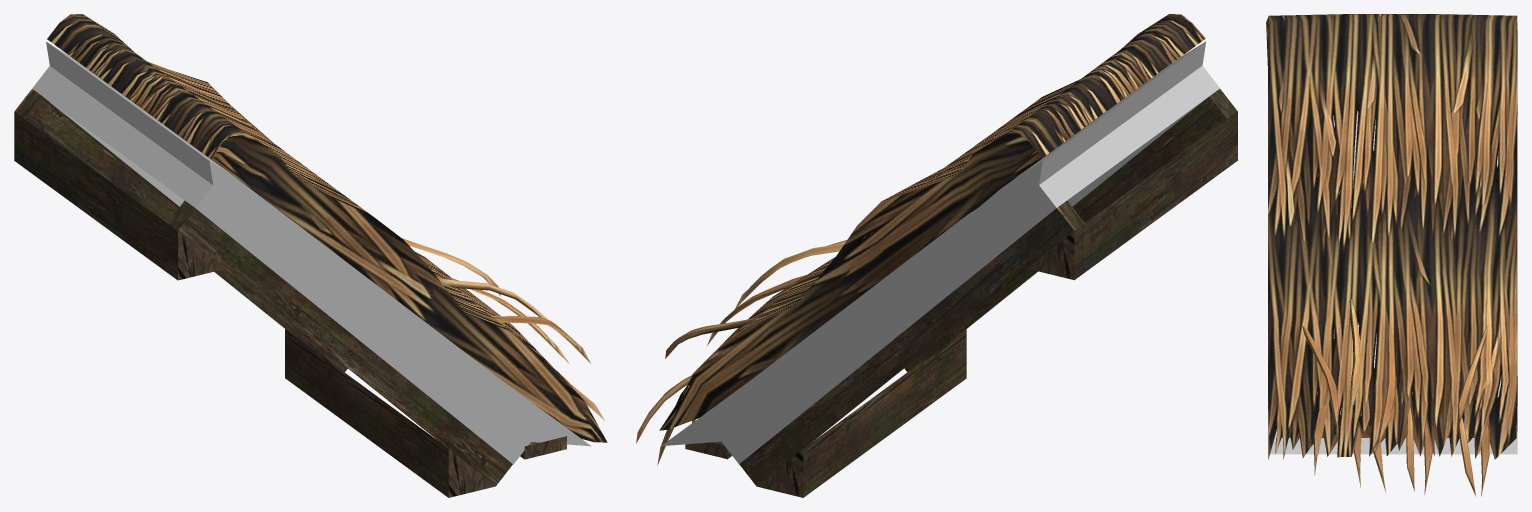
The picture shows the model from 3 angles, left to right: view 1: azimuth 30°, elevation 25°; view 2: azimuth 150°, elevation 25°; view 3: azimuth 270°, elevation 25°; orthographic projection. The views are drawn at different scales.
Visible parts, largest first — view 1: SM_BB_T1_Extended_Roof_Med_LOD0; view 2: SM_BB_T1_Extended_Roof_Med_LOD0; view 3: SM_BB_T1_Extended_Roof_Med_LOD0.
Part boxes in pixels (box(x1,y1,x2,y2)): SM_BB_T1_Extended_Roof_Med_LOD0: box(14, 14, 607, 497); SM_BB_T1_Extended_Roof_Med_LOD0: box(636, 14, 1237, 497); SM_BB_T1_Extended_Roof_Med_LOD0: box(1266, 14, 1517, 496).
Size of the model in its own units: 2.47 by 2.26 by 1.51.
